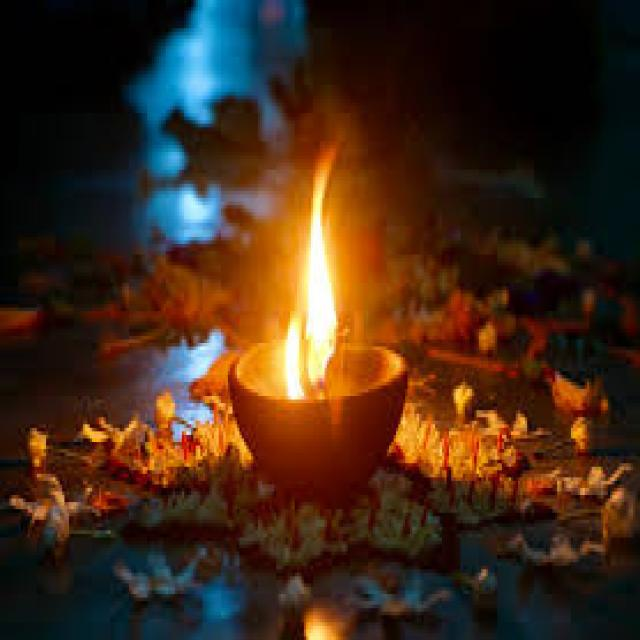fire: (305, 140, 339, 382), (285, 315, 304, 402)
